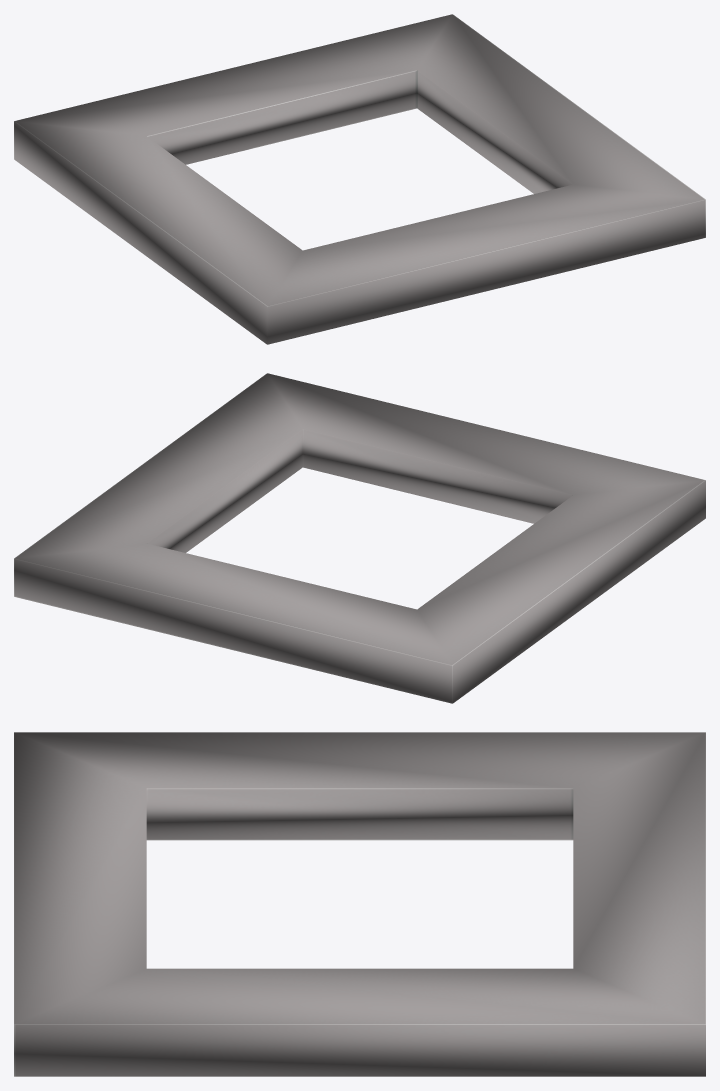
The model's file is rood_LOD0.fbx.
The picture shows the model from 3 angles, top to bottom: view 1: azimuth 30°, elevation 25°; view 2: azimuth 150°, elevation 25°; view 3: azimuth 270°, elevation 25°; orthographic projection. The views are drawn at different scales.
Visible parts, largest first — view 1: rood_LOD0; view 2: rood_LOD0; view 3: rood_LOD0.
Boxes of the visible parts, x1,y1,x2,y2 form: rood_LOD0: (14, 14, 705, 344); rood_LOD0: (14, 373, 705, 703); rood_LOD0: (14, 732, 705, 1076).
Bounding box in the file's own units: 200 × 16.64 × 200.
